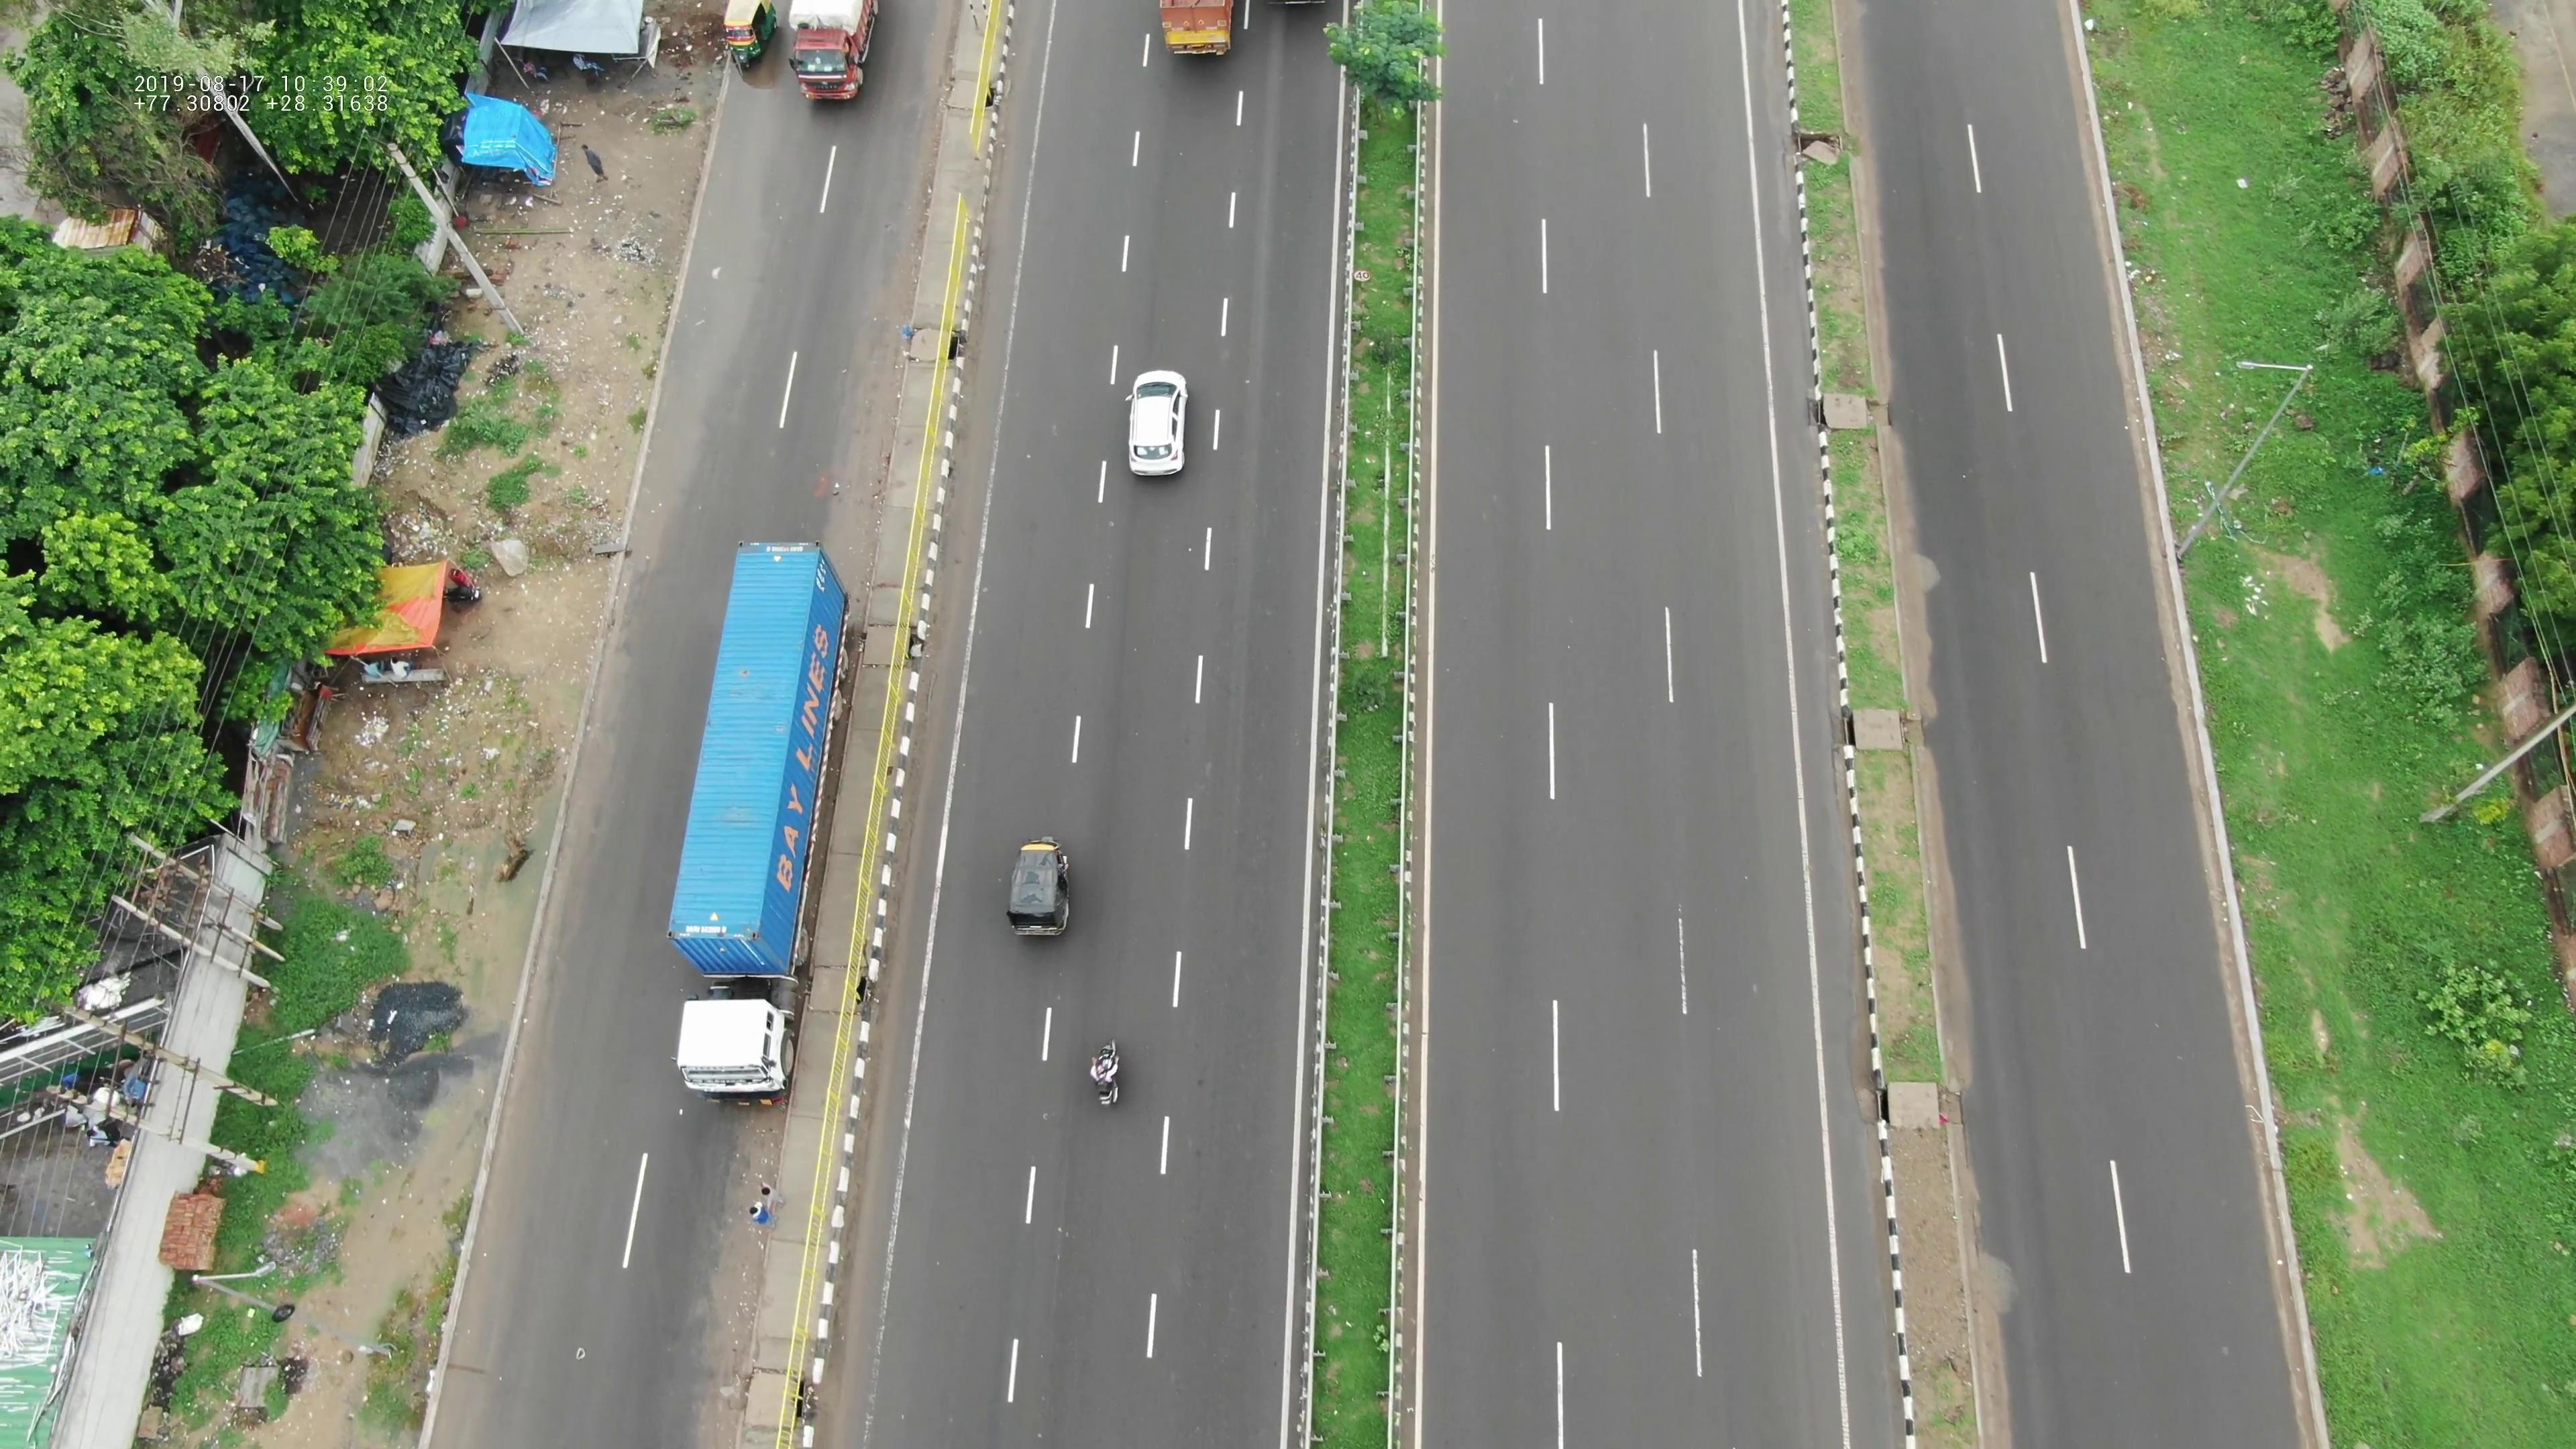Waterlogging: (644, 88, 782, 550)
